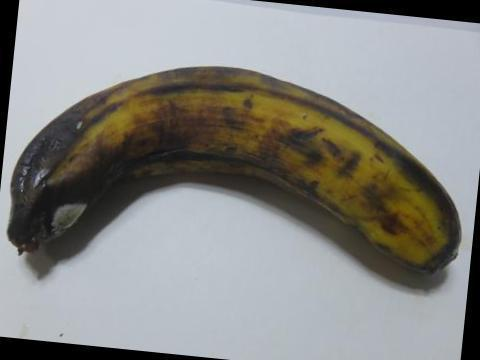overripe: (10, 49, 479, 328)
rotten: (7, 99, 151, 247)
